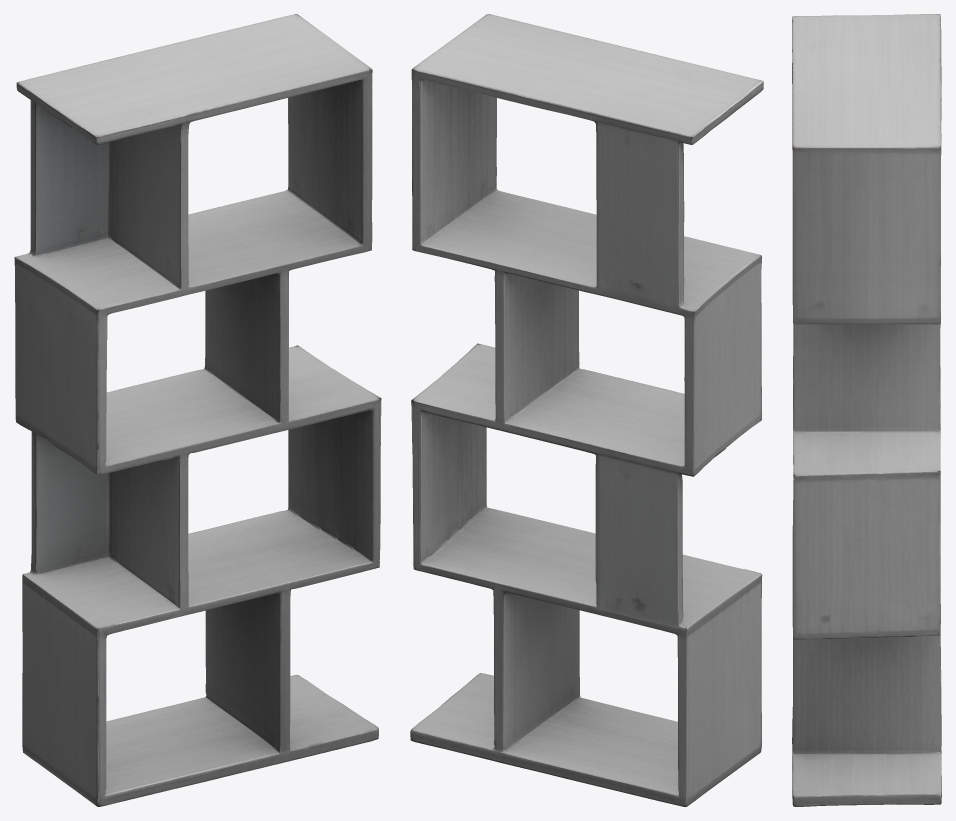
The model's file is 4_shelf_unit_sanremo.glb.
The picture shows the model from 3 angles, left to right: view 1: azimuth 30°, elevation 25°; view 2: azimuth 150°, elevation 25°; view 3: azimuth 270°, elevation 25°; orthographic projection. The views are drawn at different scales.
Visible parts, largest first — view 1: world; view 2: world; view 3: world.
Boxes of the visible parts, left/top/right/bottom form: world: left=14, top=14, right=381, bottom=806; world: left=410, top=14, right=763, bottom=806; world: left=792, top=14, right=941, bottom=806.
Size of the model in its own units: 0.4544 by 0.9999 by 0.2065.
1 material, 1 textured.
